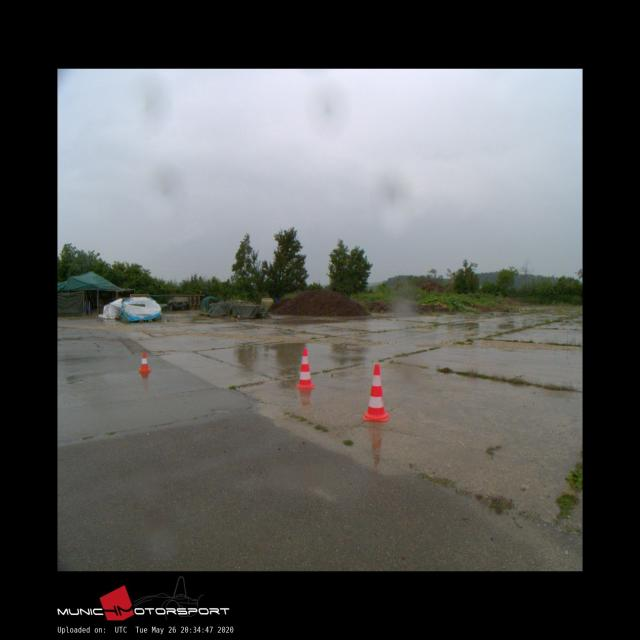large_orange_cone: (363, 364, 389, 421), (296, 348, 314, 388)
orange_cone: (139, 351, 150, 372)
